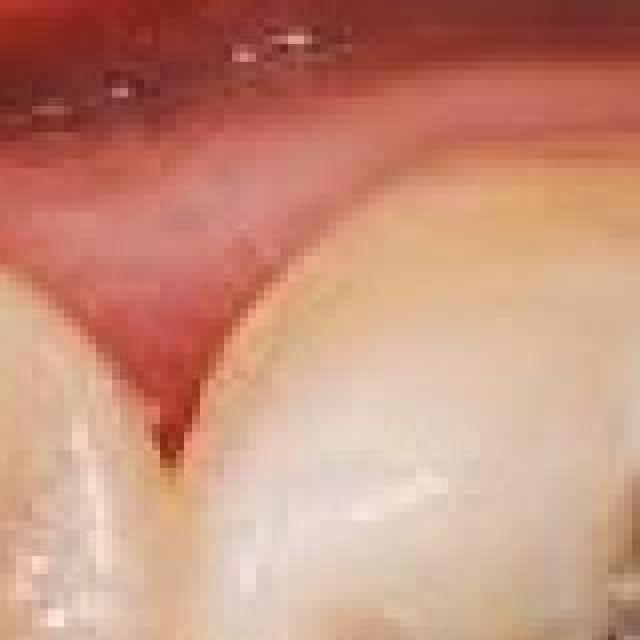cavities: (176, 114, 640, 640)
